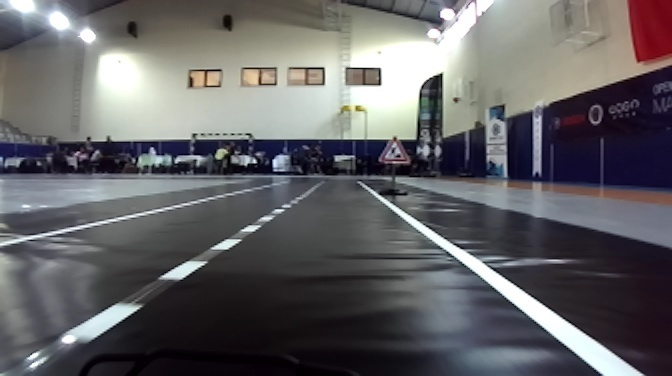yol_yapimi: (375, 133, 414, 166)
